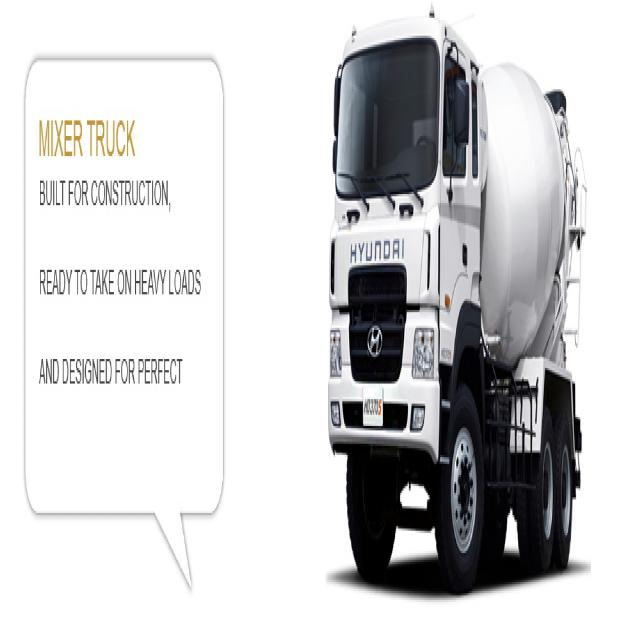Mixer Truck: (328, 19, 587, 592)
